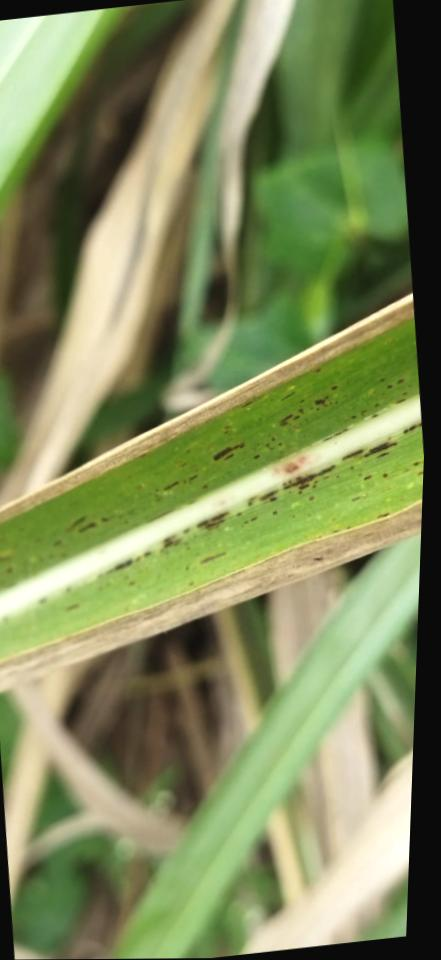RedRot: (272, 453, 309, 475)
Rust: (281, 463, 336, 491), (95, 557, 135, 579), (212, 441, 244, 462), (361, 442, 398, 458), (198, 550, 227, 565), (321, 427, 348, 442), (145, 510, 171, 525), (67, 513, 88, 530), (258, 488, 278, 503), (341, 448, 364, 461), (402, 421, 420, 435), (203, 519, 224, 531), (209, 510, 228, 523), (77, 522, 96, 534), (279, 413, 293, 428), (65, 601, 81, 613), (279, 391, 296, 402), (162, 481, 179, 492), (161, 533, 176, 544), (195, 519, 209, 529), (374, 451, 389, 459), (221, 453, 234, 462), (240, 401, 253, 409), (186, 474, 198, 482), (375, 512, 388, 519), (142, 550, 152, 559), (395, 397, 406, 405), (162, 541, 173, 549), (297, 483, 309, 490), (264, 442, 274, 450), (181, 527, 191, 535), (362, 474, 371, 482), (252, 453, 261, 461), (52, 539, 61, 547), (38, 596, 46, 605), (314, 399, 325, 405), (329, 384, 338, 391), (411, 460, 420, 467), (100, 516, 109, 523), (359, 409, 366, 417), (415, 470, 423, 477), (249, 515, 257, 522), (1, 616, 9, 623), (64, 586, 72, 593), (122, 574, 130, 581), (350, 496, 359, 502), (126, 581, 135, 587), (381, 472, 388, 479), (296, 408, 303, 415), (396, 378, 404, 384), (179, 462, 187, 468), (386, 384, 393, 390), (6, 567, 13, 573), (271, 510, 278, 516), (134, 555, 141, 561), (187, 580, 194, 586), (307, 496, 315, 501), (321, 475, 329, 480), (269, 497, 277, 502), (248, 496, 256, 501), (296, 490, 302, 496), (105, 582, 111, 588), (370, 414, 377, 419), (401, 391, 408, 396), (292, 415, 299, 420), (294, 476, 301, 481), (331, 530, 339, 534), (298, 399, 304, 404), (315, 368, 320, 374), (373, 403, 379, 408), (222, 430, 228, 435), (236, 512, 242, 517), (247, 501, 252, 507), (97, 587, 103, 592), (224, 425, 231, 429), (346, 525, 353, 529), (379, 378, 384, 383), (185, 449, 190, 454), (243, 520, 248, 525), (183, 541, 188, 546), (123, 519, 128, 524), (350, 415, 356, 419), (202, 485, 208, 489), (324, 395, 329, 399), (308, 407, 313, 411), (270, 437, 275, 441), (311, 484, 316, 488), (313, 480, 318, 484), (281, 483, 286, 487), (357, 473, 362, 477), (404, 468, 409, 472), (195, 552, 199, 557), (185, 566, 189, 571), (387, 436, 391, 440), (277, 442, 281, 446), (349, 466, 353, 470), (186, 547, 190, 551), (328, 402, 332, 405), (315, 408, 319, 411), (287, 480, 291, 483), (335, 475, 339, 478), (317, 535, 321, 538), (193, 535, 196, 539), (334, 401, 337, 404), (291, 515, 294, 518), (331, 518, 334, 521), (288, 491, 290, 494)
Yellow: (0, 293, 413, 524), (0, 500, 422, 694)
